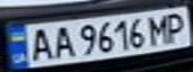1: (112, 17, 133, 52)
6: (127, 15, 151, 48), (93, 19, 115, 53)
9: (75, 20, 100, 56)
A: (21, 25, 54, 62), (48, 24, 75, 60)
M: (145, 11, 175, 46)
P: (160, 9, 193, 44)
